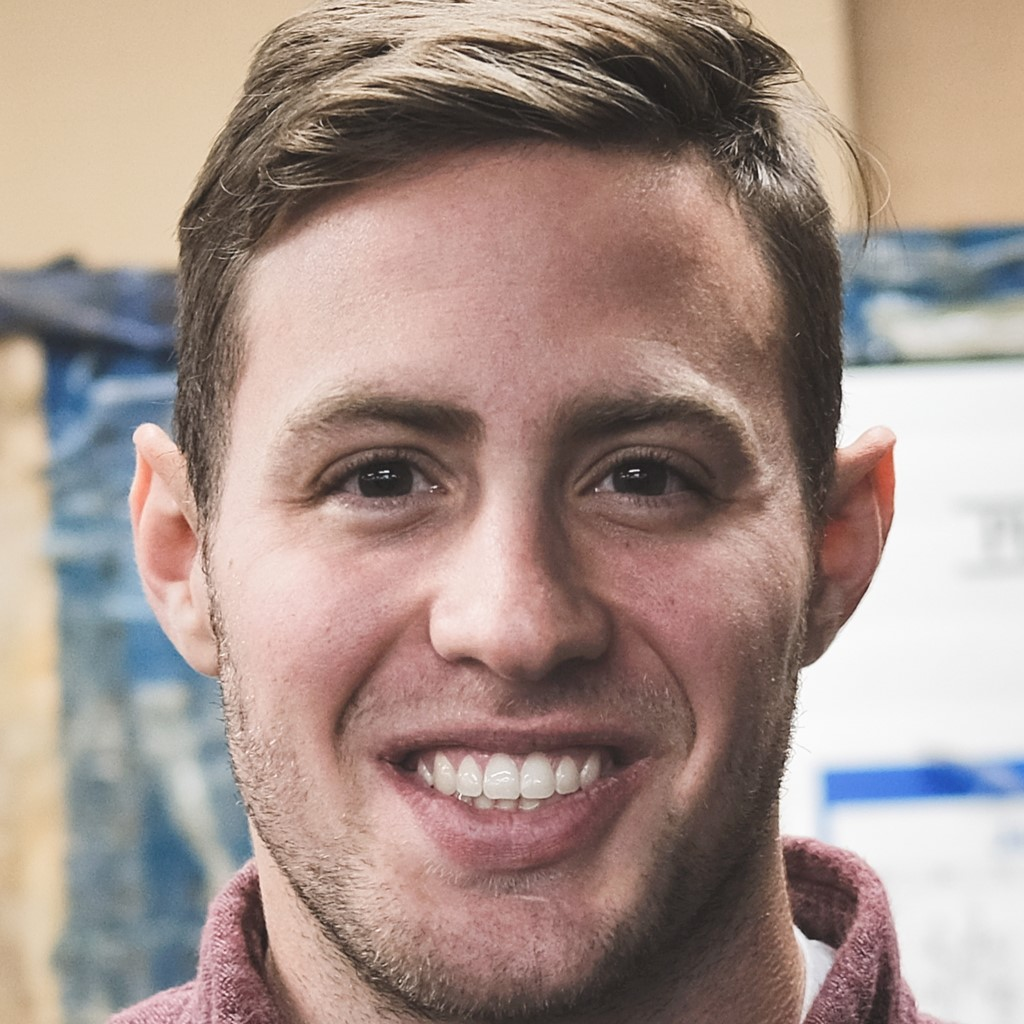sin_mascara: (230, 112, 825, 1018)
